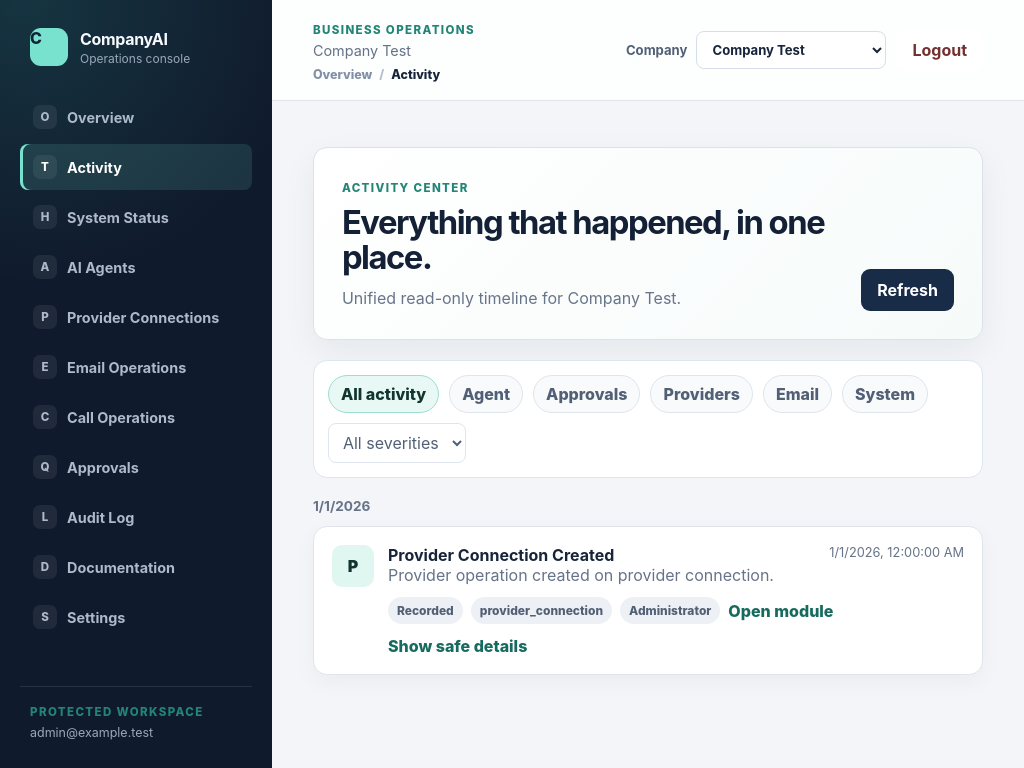
Test: renders Activity Center timeline and filters safe details
Expected: the heading "Everything that happened, in one place." is shown, [342,205,837,276]
Expected: the heading "Provider Connection Created" is shown, [388,545,614,565]
Click the button "Show safe details" at (458, 646), box [388,636,527,656]
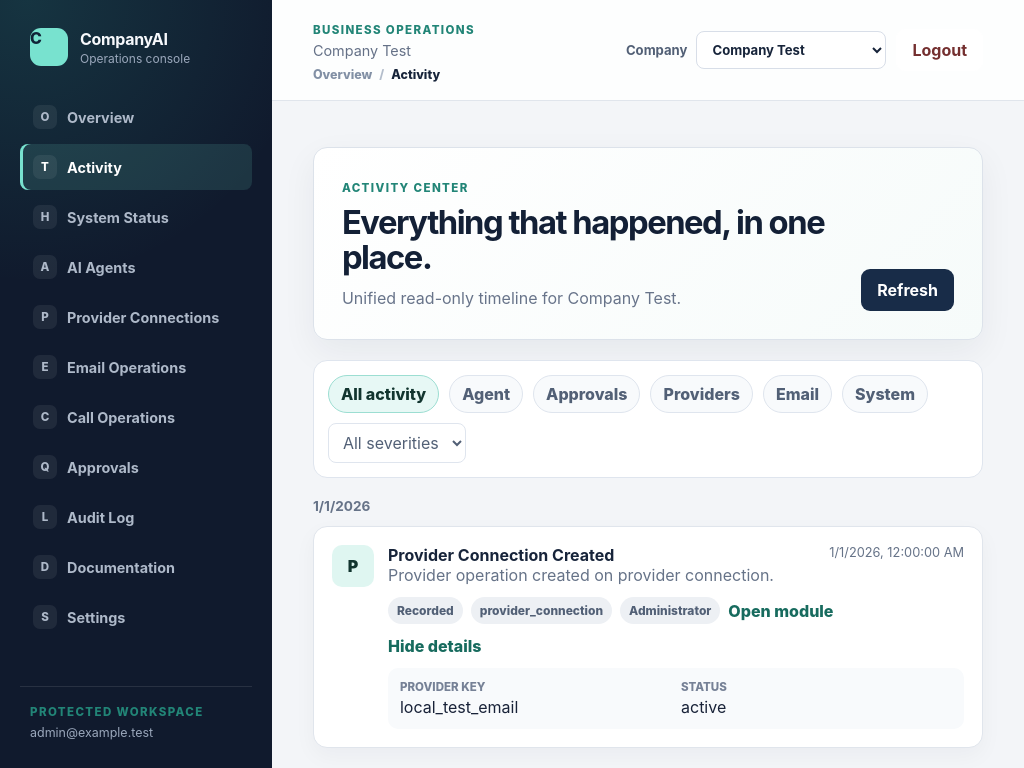
Now the text "local_test_email" is shown, box [400,697,518,717]
Click the button "Agent" at (486, 394), box [449,375,523,413]
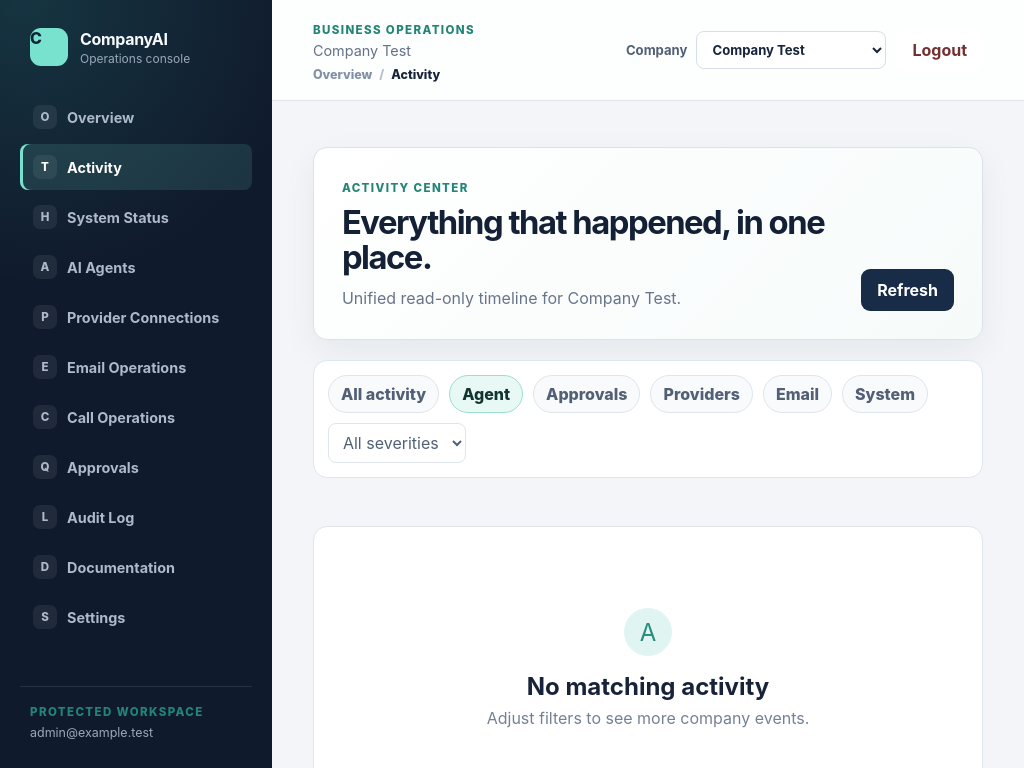
Now the heading "No matching activity" is shown, box [527,672,769,701]
